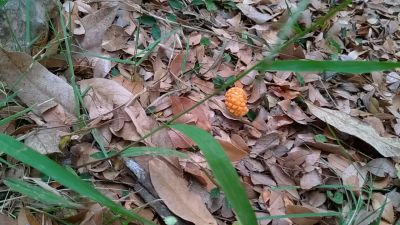eggs: (221, 83, 251, 118)
